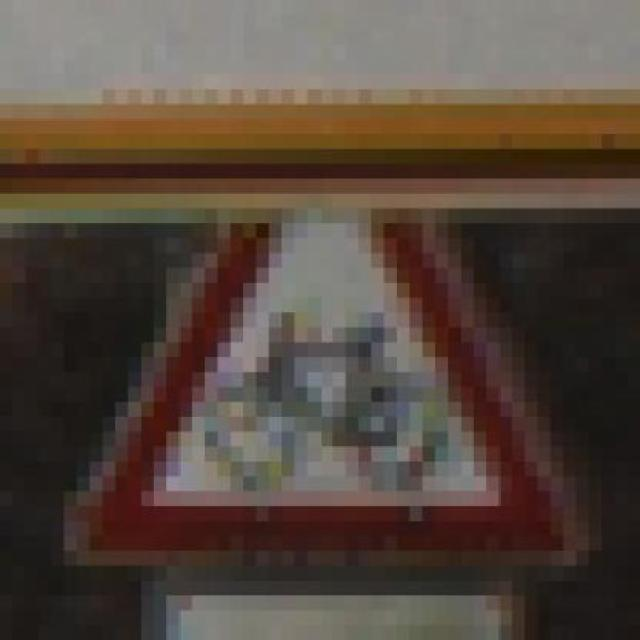CYCLE ROUTE AHEAD WARNING: (26, 223, 614, 580)
